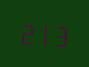one: (36, 19, 52, 47)
three: (53, 20, 69, 48)
two: (18, 18, 34, 46)
